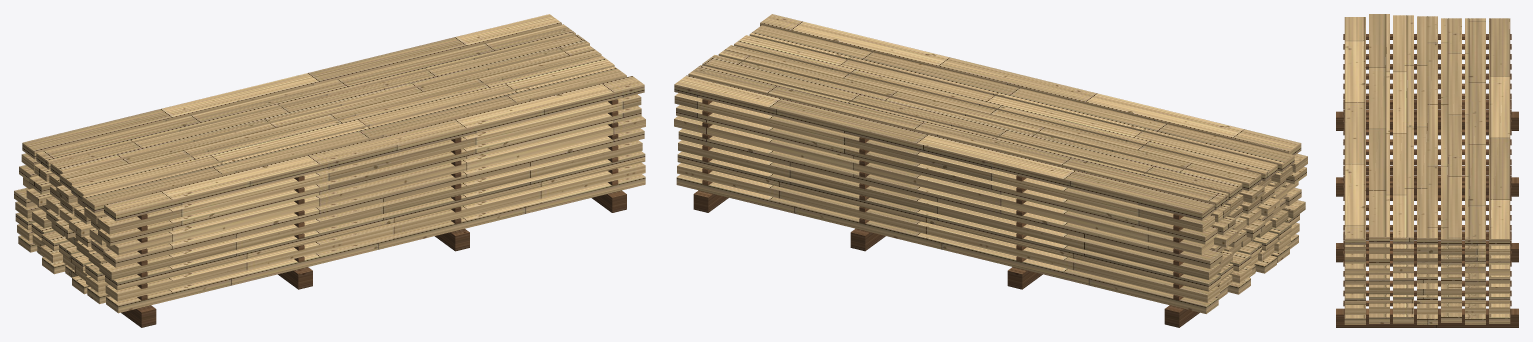
File: stack_a.glb
3 renders of one model, left to right at view 1: azimuth 30°, elevation 25°; view 2: azimuth 150°, elevation 25°; view 3: azimuth 270°, elevation 25°, orthographic. The views are drawn at different scales.
Visible parts, largest first — view 1: stack_a_lumber, stack_a_dkwood; view 2: stack_a_lumber, stack_a_dkwood; view 3: stack_a_lumber, stack_a_dkwood.
Part boxes in pixels (x1,y1,x2,y2): stack_a_lumber: [14, 14, 645, 313]; stack_a_dkwood: [37, 99, 626, 327]; stack_a_lumber: [674, 14, 1307, 313]; stack_a_dkwood: [693, 99, 1199, 327]; stack_a_lumber: [1344, 14, 1510, 324]; stack_a_dkwood: [1336, 34, 1518, 327].
Size of the model in its own units: 3.66 by 0.75 by 1.25.
2 materials, 2 textured.
